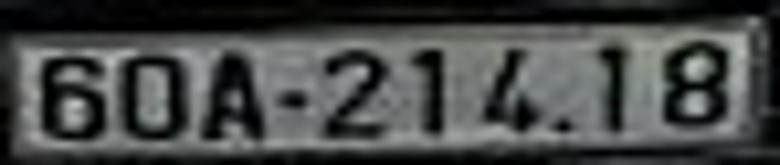-: (274, 87, 309, 110)
.: (552, 116, 572, 136)
0: (120, 53, 189, 139)
1: (407, 46, 445, 135), (598, 43, 629, 136)
2: (326, 48, 383, 141)
4: (481, 47, 540, 133)
6: (39, 54, 107, 142)
8: (665, 40, 728, 127)
A: (203, 51, 266, 143)
